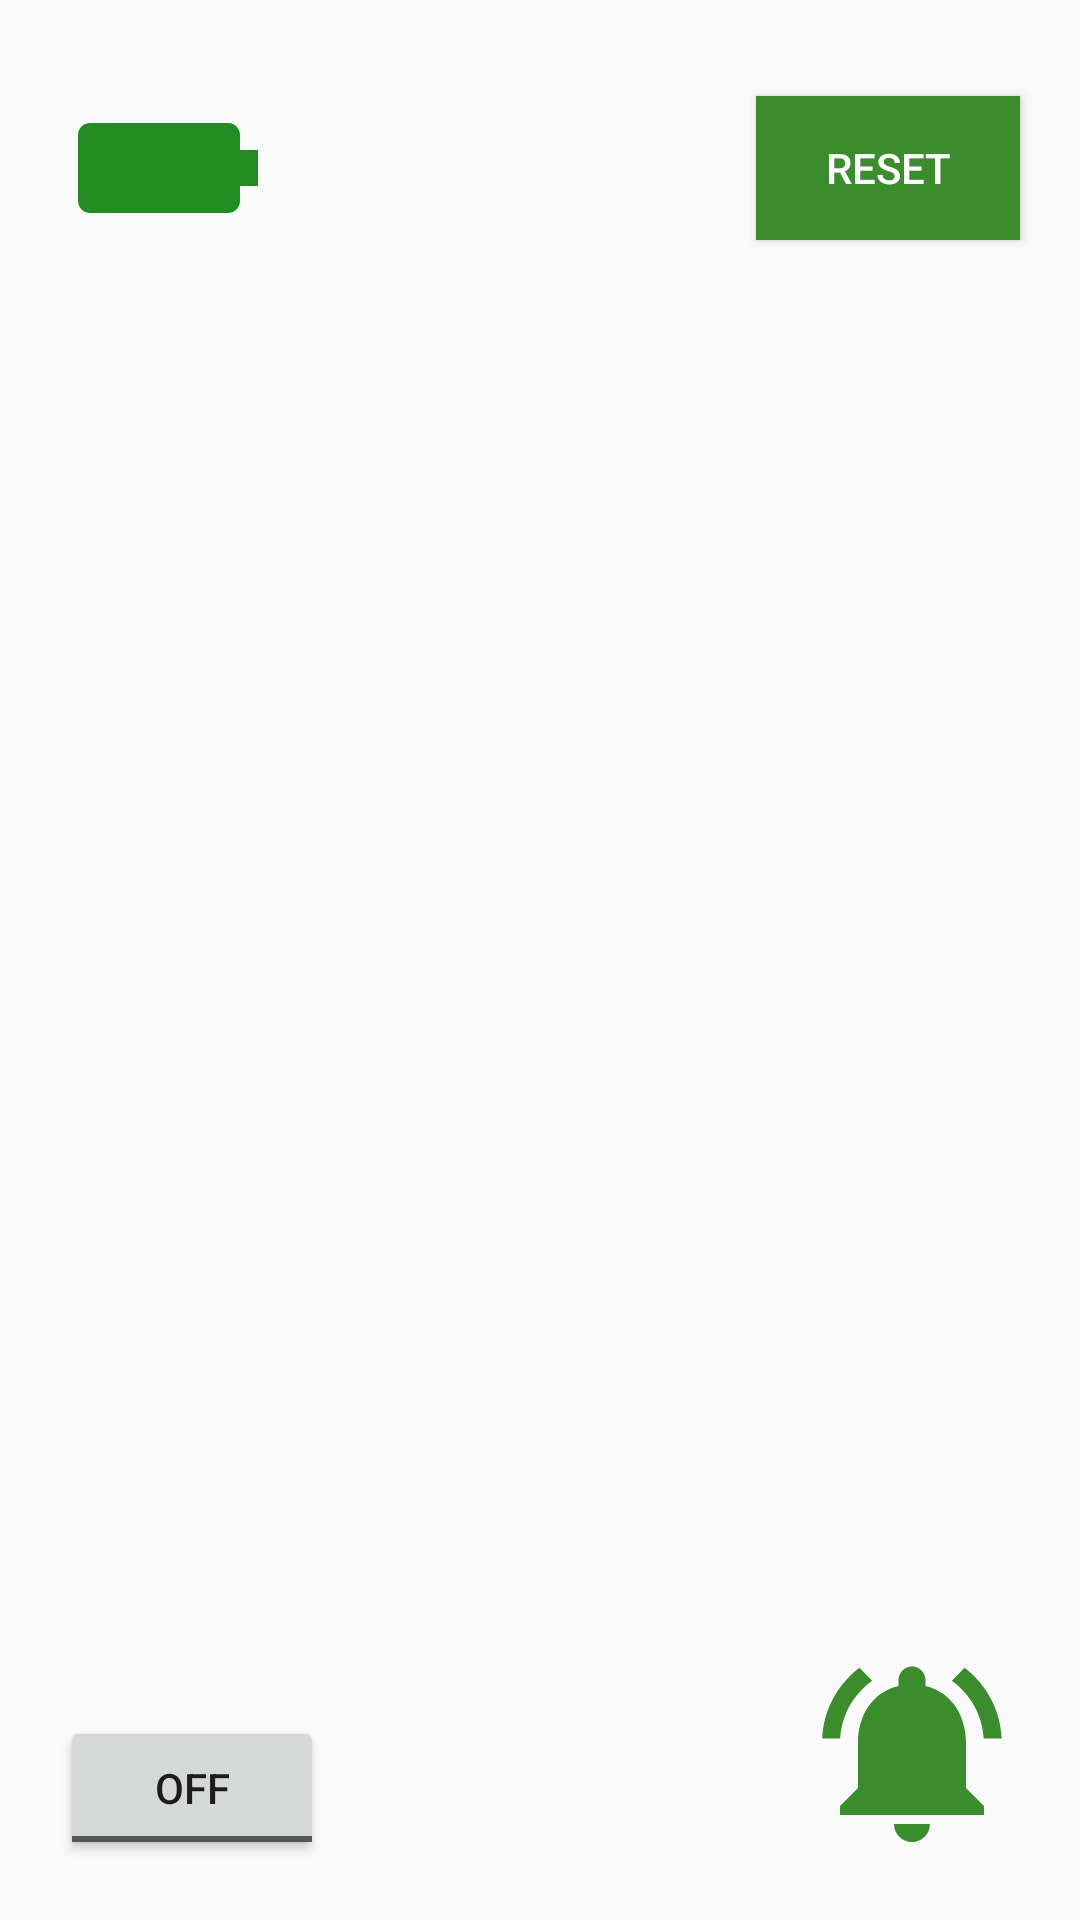

Where icons sit on this 1080w x 1920h app screen, as (x1, y1, x2, y2):
alarm: (822, 1666, 1002, 1842)
